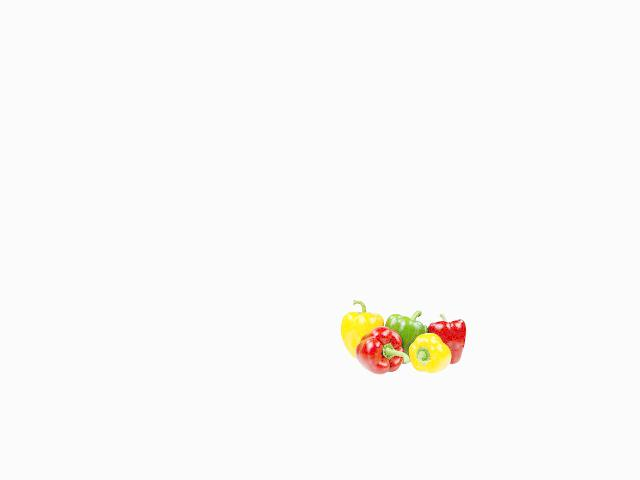bell_pepper: (428, 312, 469, 357)
